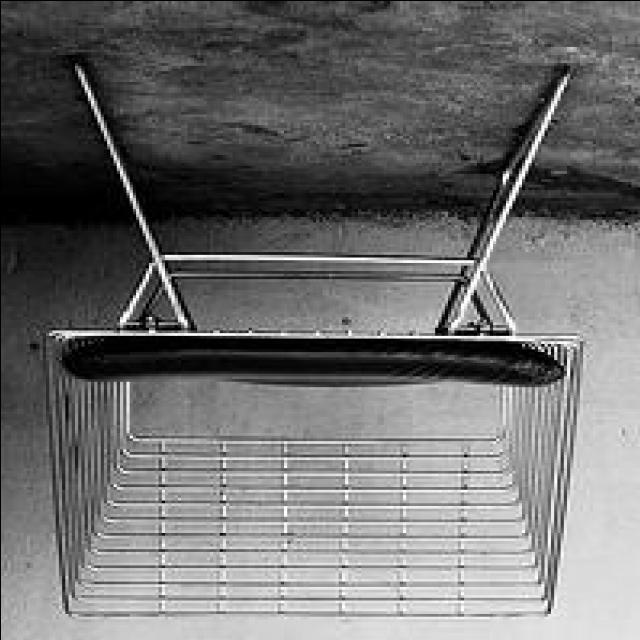chair: (31, 62, 587, 622)
